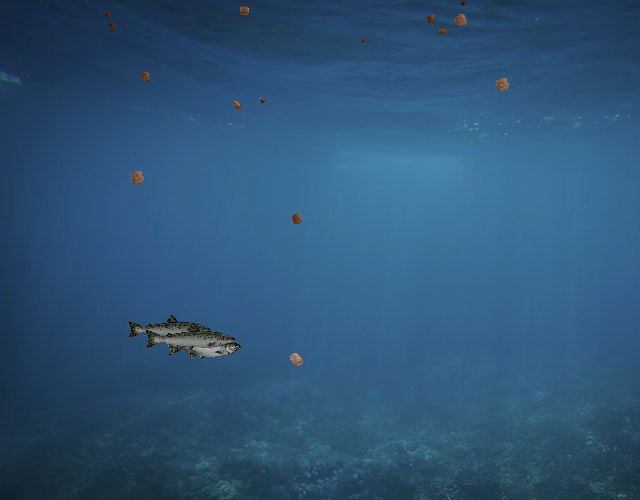Fish: (143, 322, 237, 355), (126, 313, 212, 344), (168, 334, 241, 360)
Pellet: (282, 346, 310, 374), (123, 164, 151, 192), (448, 7, 473, 32), (286, 208, 308, 230), (228, 96, 245, 114), (256, 94, 268, 106)
